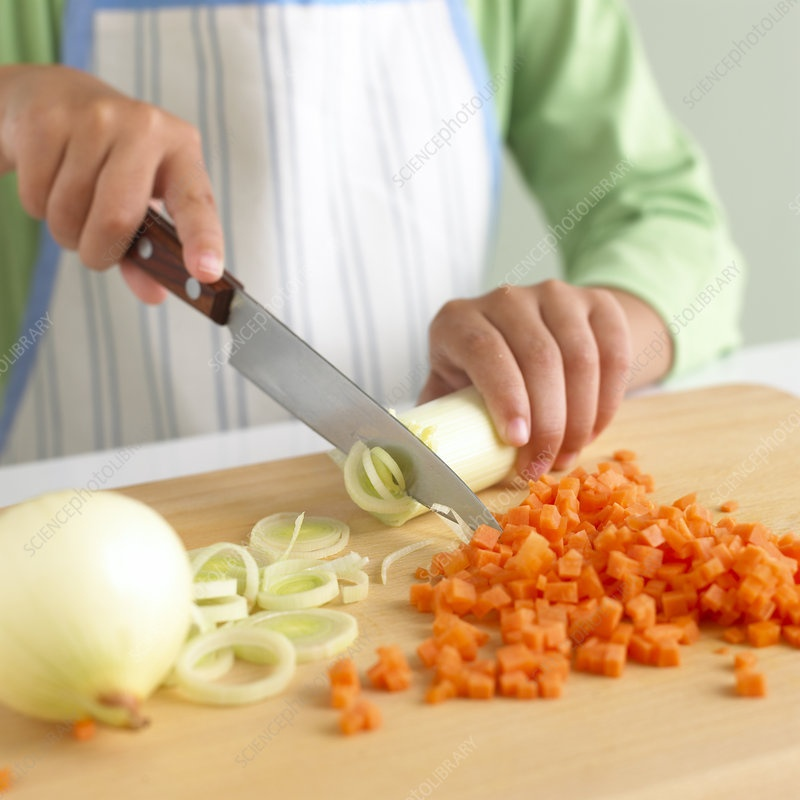knife: (102, 195, 508, 541)
